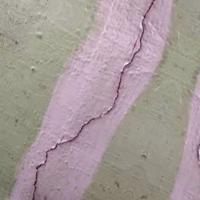crack: (30, 0, 160, 199)
